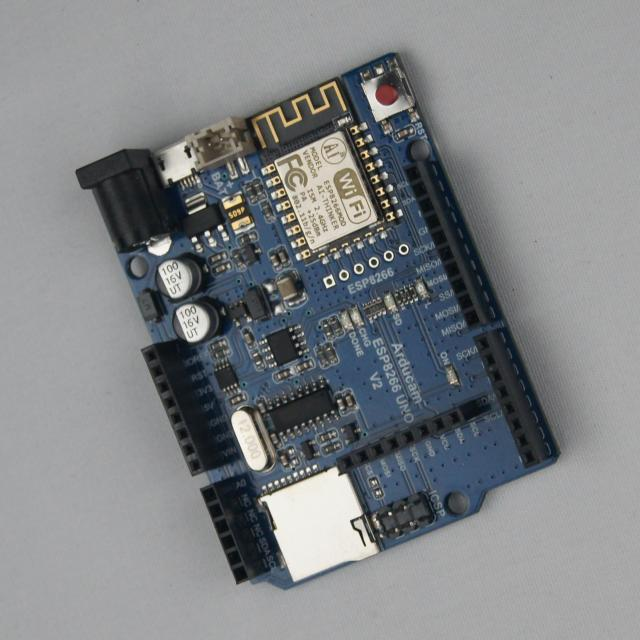Arduino Uno Camera Shield: (77, 54, 559, 586)
